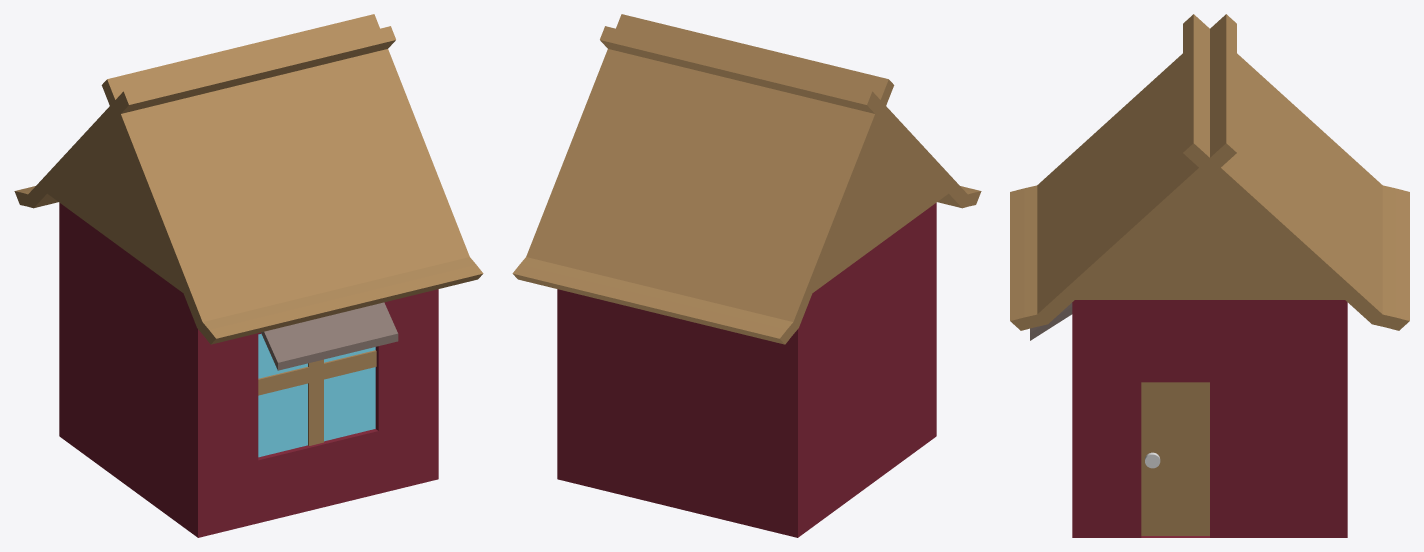
Rendered from casa vila vermelha.fbx.
The picture shows the model from 3 angles, left to right: view 1: azimuth 30°, elevation 25°; view 2: azimuth 150°, elevation 25°; view 3: azimuth 270°, elevation 25°; orthographic projection.
Visible parts, largest first — view 1: Cube.001, Cube, Cube.002, Cube.005, Cube.003; view 2: Cube.001, Cube; view 3: Cube.001, Cube, Cube.004.
Boxes of the visible parts, x1=… form: Cube.001: x1=14, y1=14, x2=483, y2=344; Cube: x1=59, y1=203, x2=438, y2=537; Cube.002: x1=258, y1=333, x2=375, y2=457; Cube.005: x1=261, y1=302, x2=398, y2=370; Cube.003: x1=258, y1=350, x2=376, y2=445; Cube.001: x1=512, y1=14, x2=981, y2=344; Cube: x1=557, y1=203, x2=936, y2=537; Cube.001: x1=1010, y1=14, x2=1409, y2=330; Cube: x1=1072, y1=300, x2=1347, y2=537; Cube.004: x1=1141, y1=382, x2=1209, y2=535.
Size of the model in its own units: 200 by 290 by 262.
